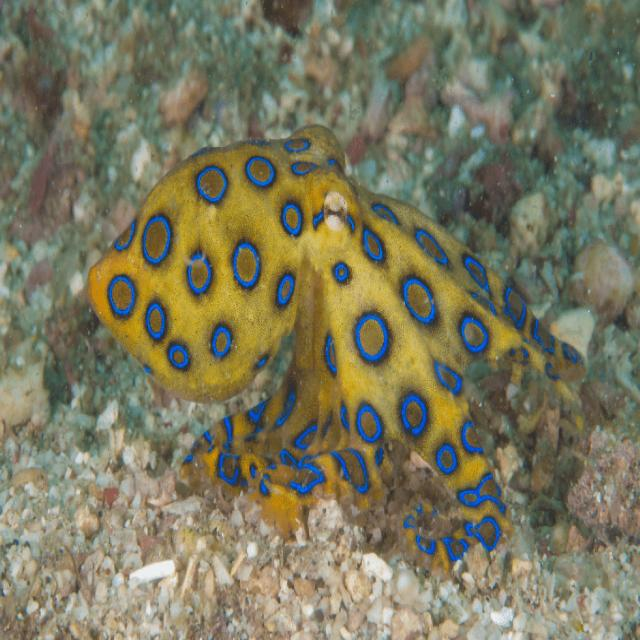blue_ringed_octopus: (86, 122, 585, 575)
